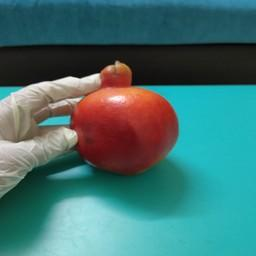pomegranate: (69, 60, 179, 175)
